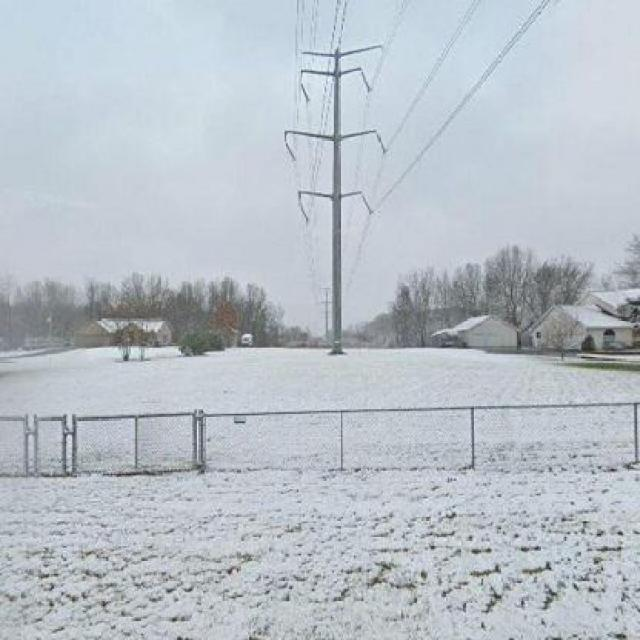pole: (283, 34, 397, 354)
